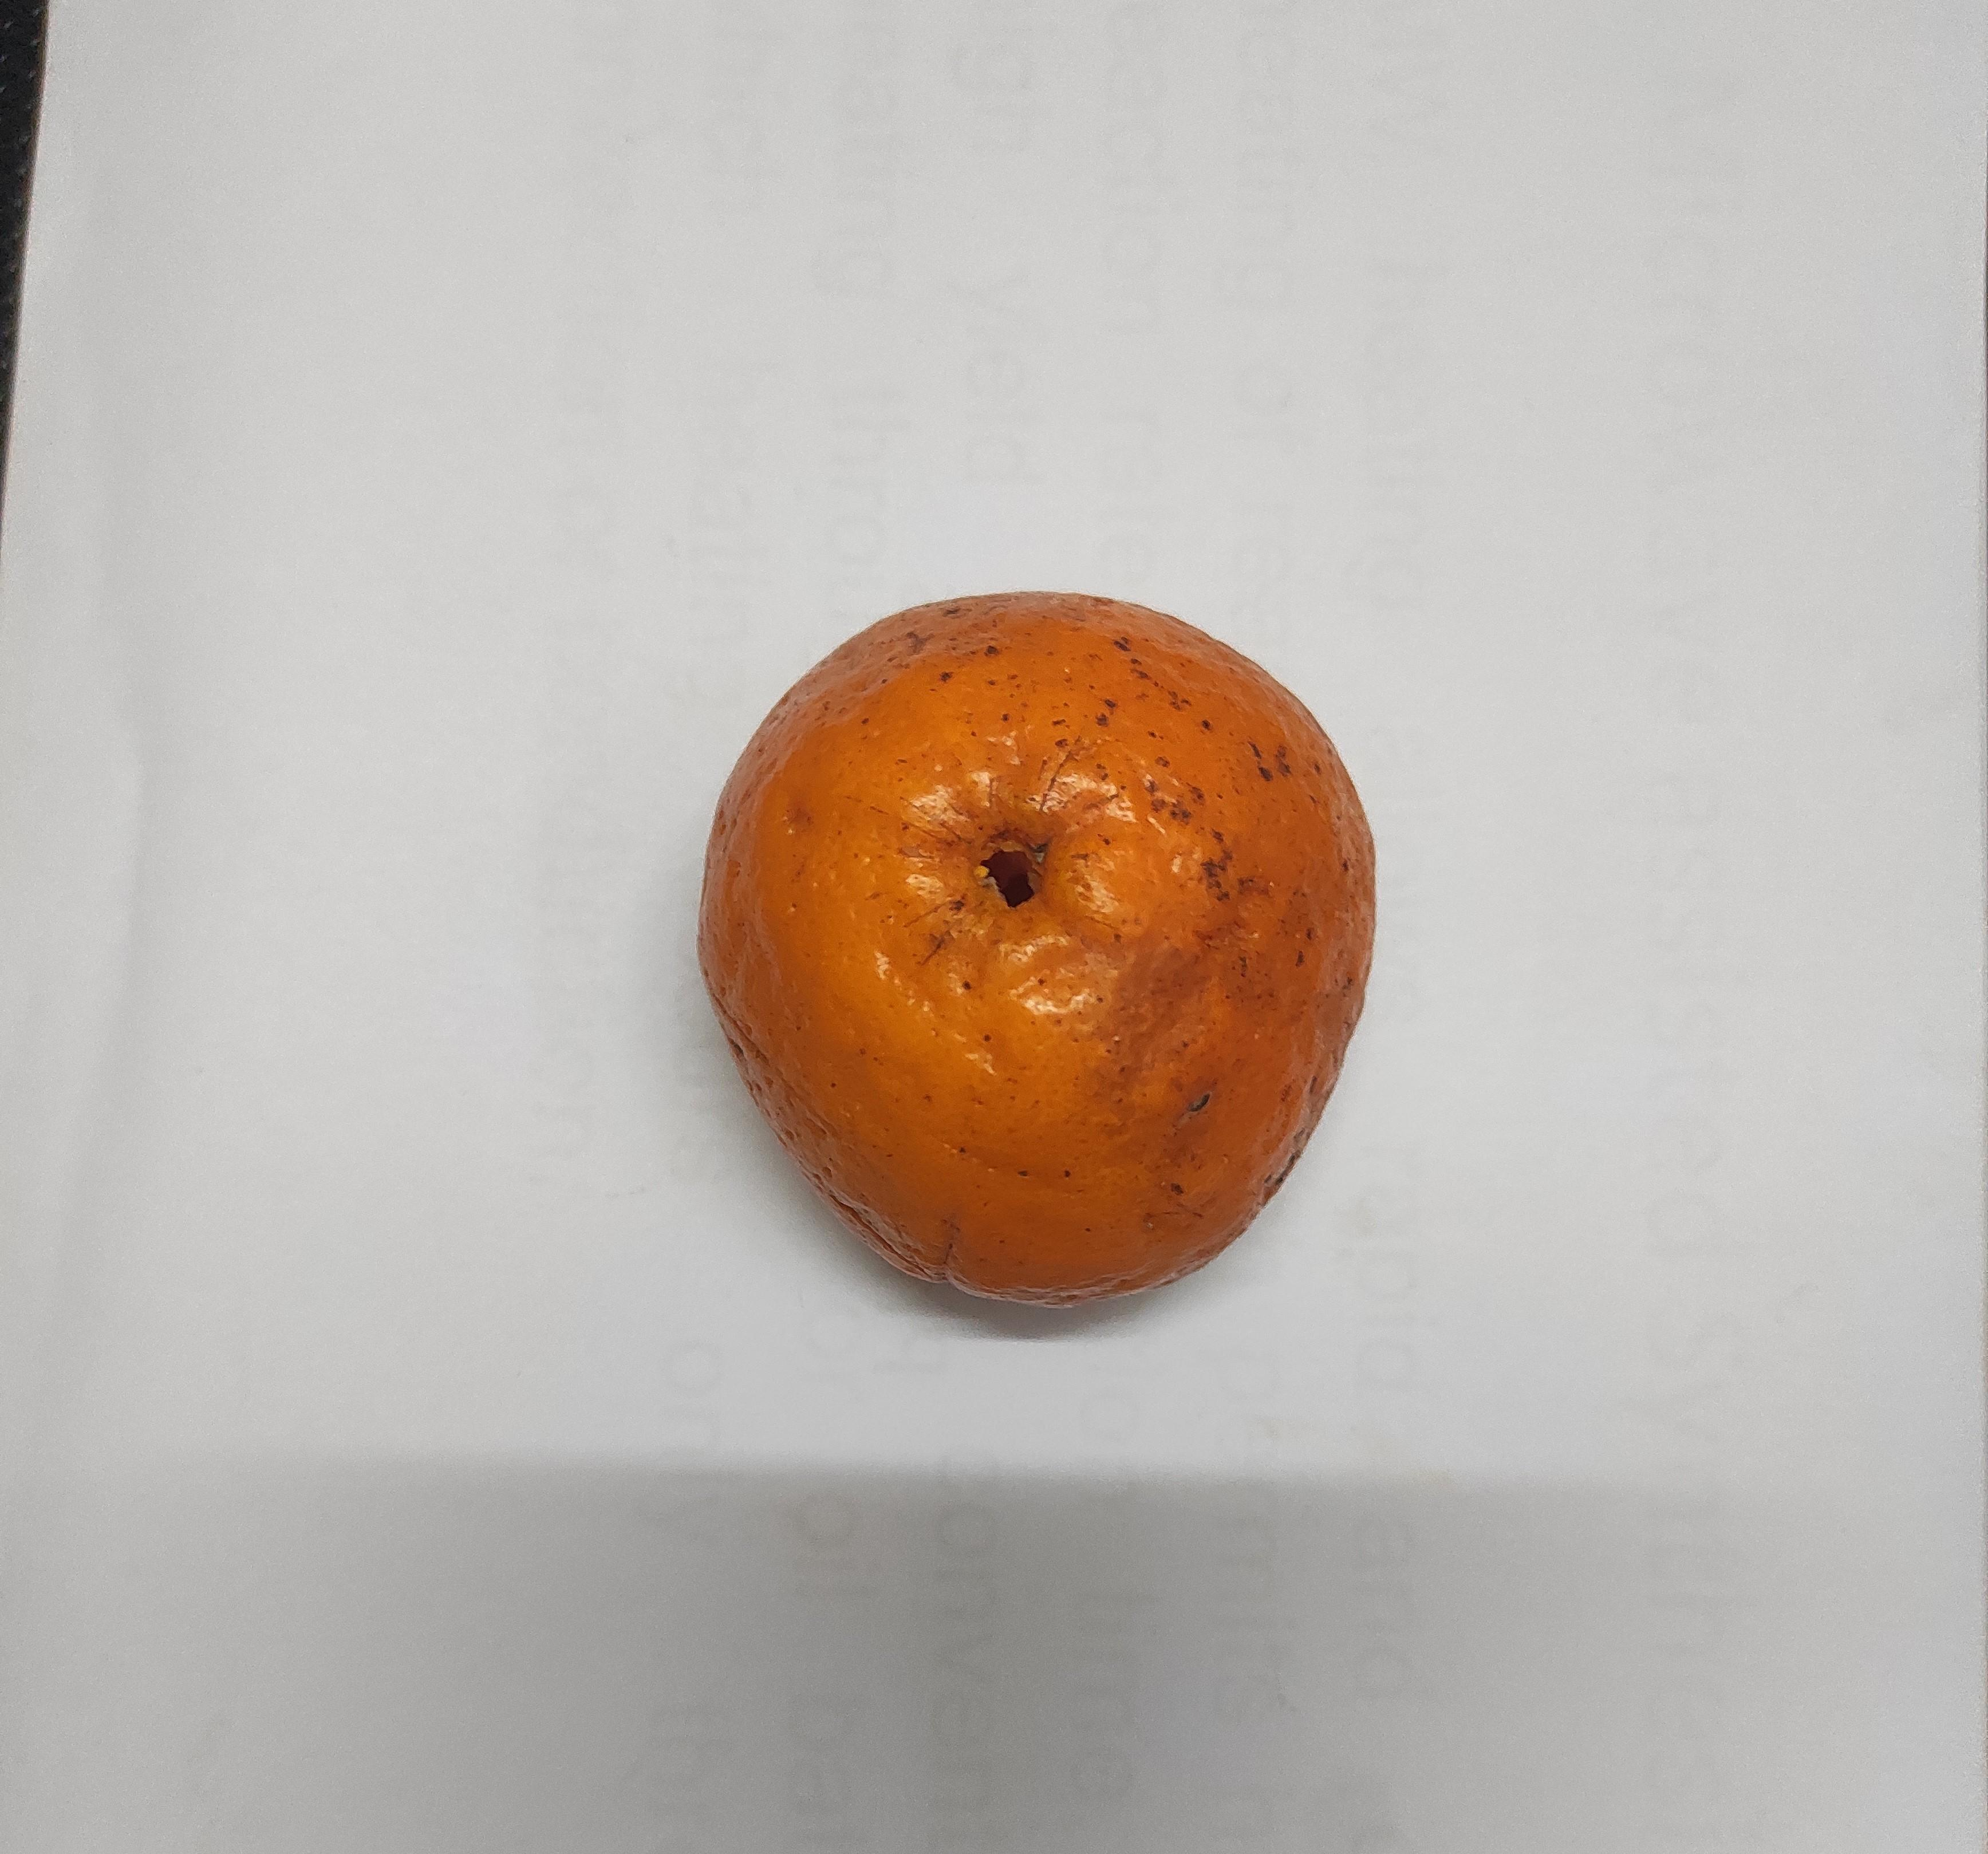Ripe: (693, 596, 1345, 1310)
